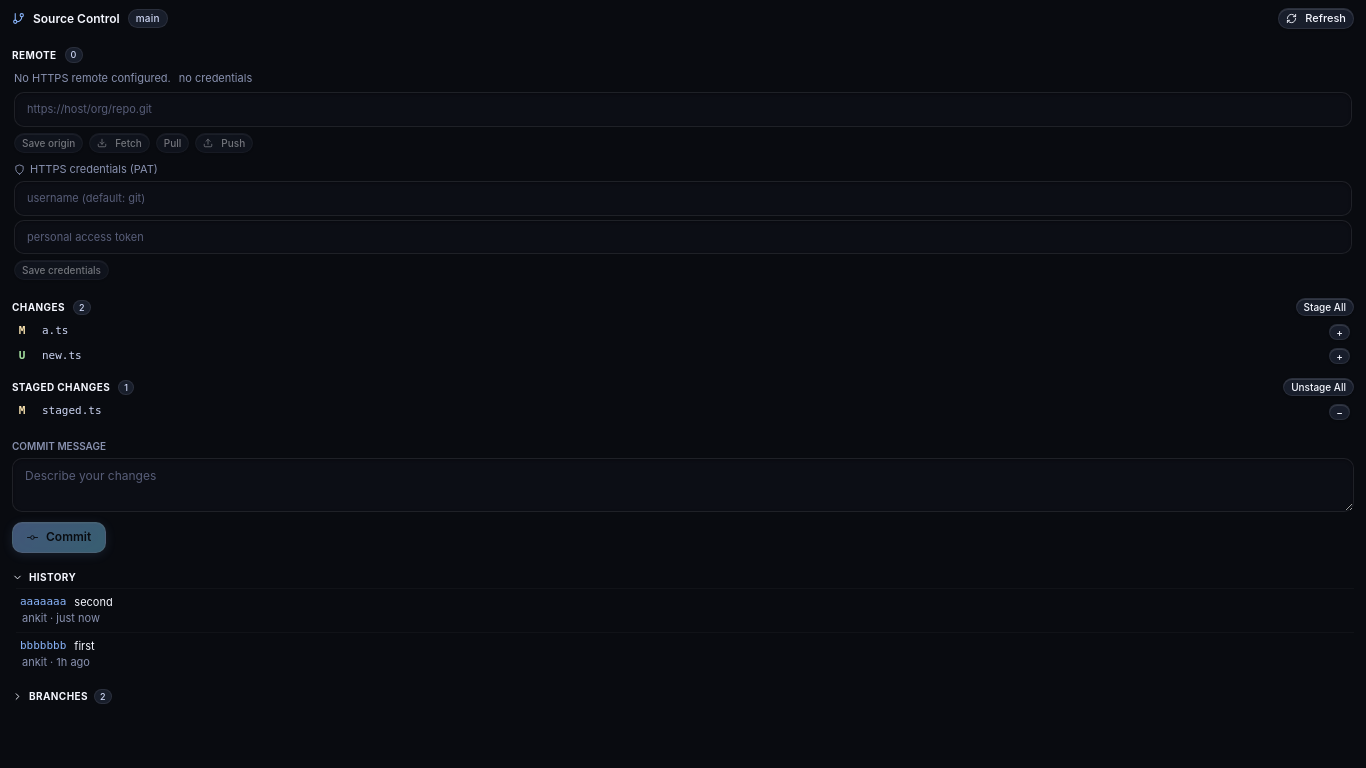
Test: SourceControlPanel — M51 › 50/52. commit posts the message, clears it, and shows the short hash
Step 1. Type "ship it" into the text box labelled "COMMIT MESSAGE" → (683, 485), box [12,458,1354,512]
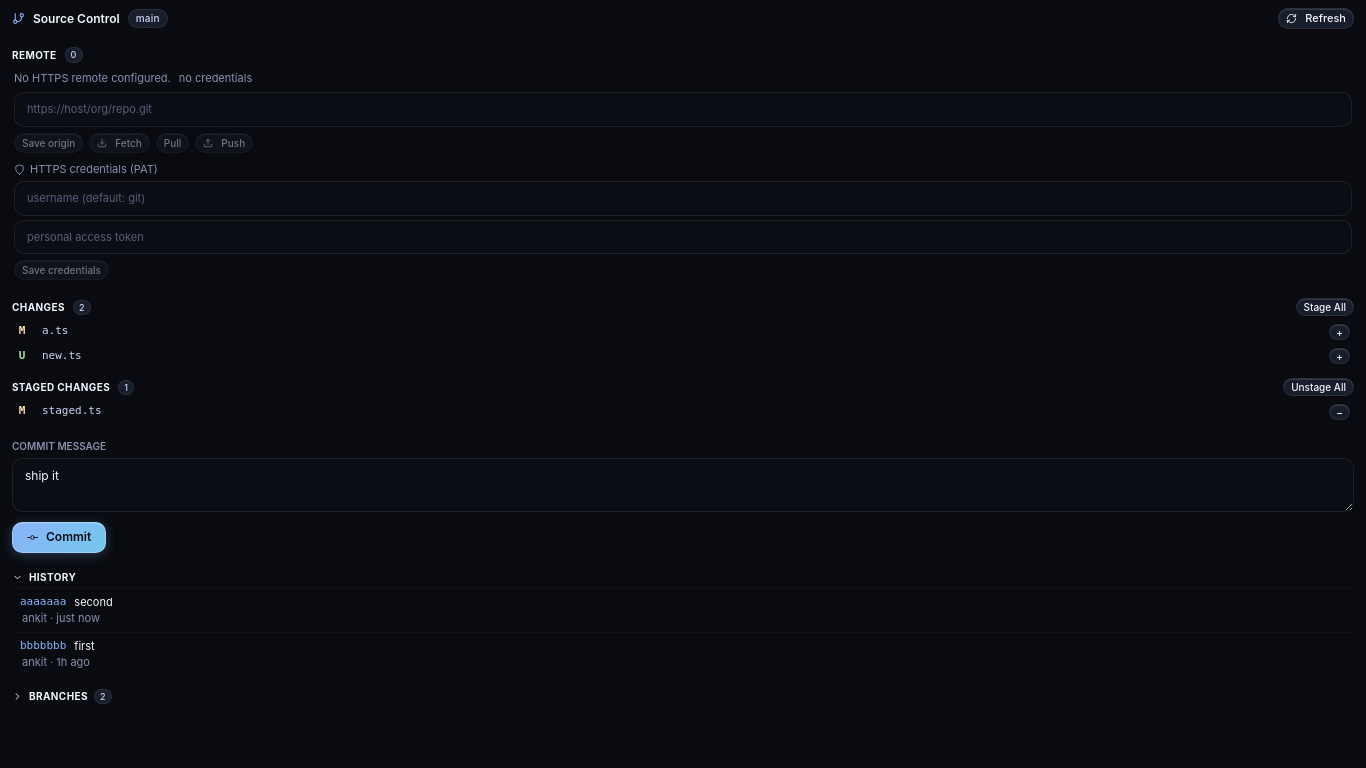
Step 2. Click the button "Commit" → (59, 537), box [12,522,106,553]
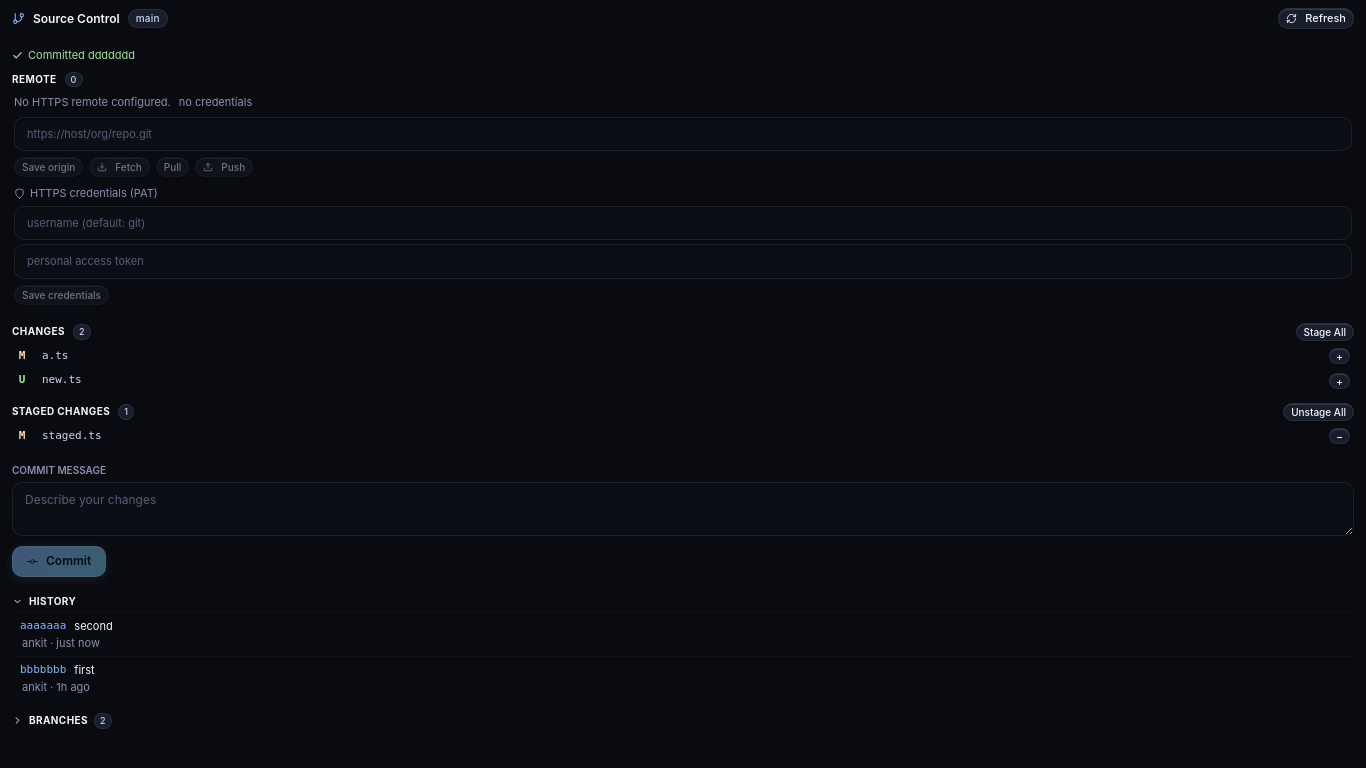
Check: the text "Committed ddddddd" is shown, box [12,48,135,62]
Check: the text box labelled "COMMIT MESSAGE" is empty, box [12,482,1354,536]
